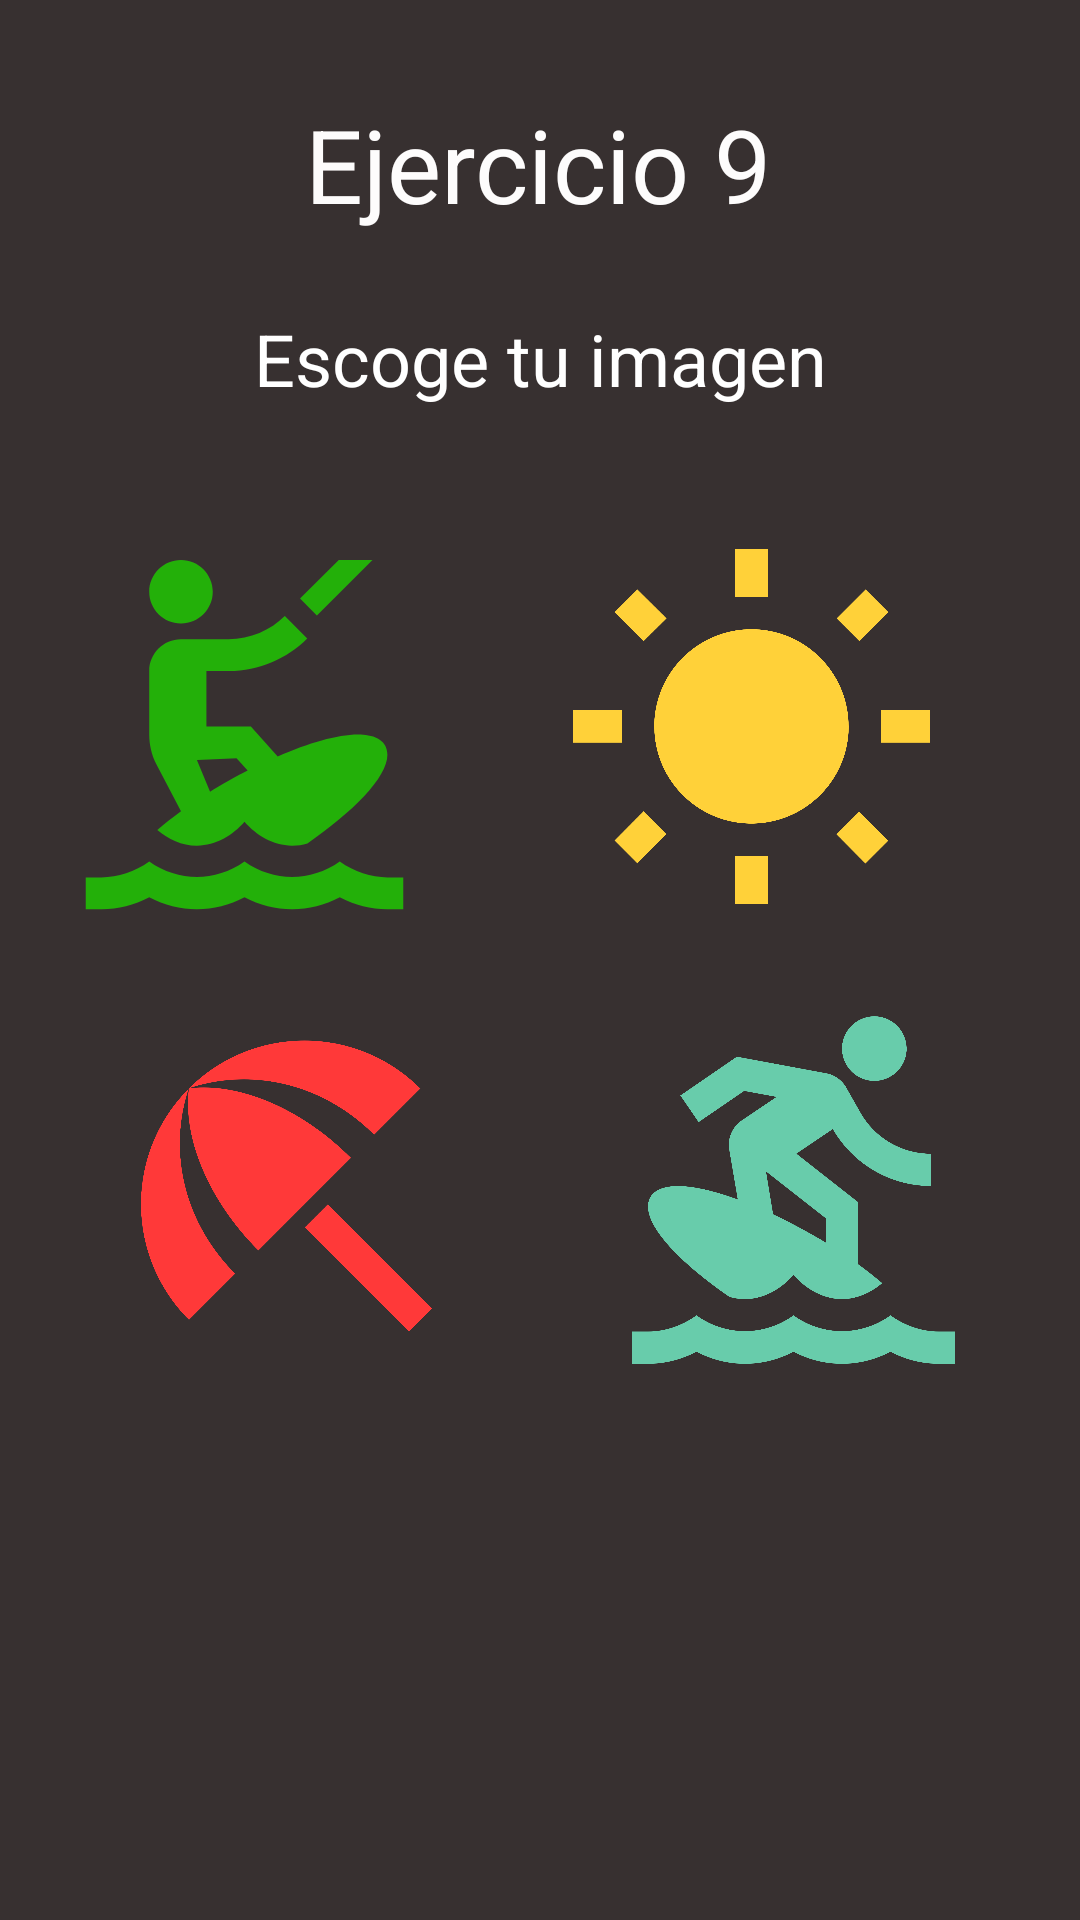

Icons on this 1080×1920 Android screen, each with its box as {"left": x1, "top": y1, "right": x2, "bottom": y2}:
imagen de sol: {"left": 573, "top": 549, "right": 930, "bottom": 904}
imagen de sombrilla: {"left": 141, "top": 1040, "right": 432, "bottom": 1331}
imagen kite-surfista: {"left": 85, "top": 560, "right": 404, "bottom": 910}
imagen surfista: {"left": 632, "top": 1016, "right": 955, "bottom": 1364}
